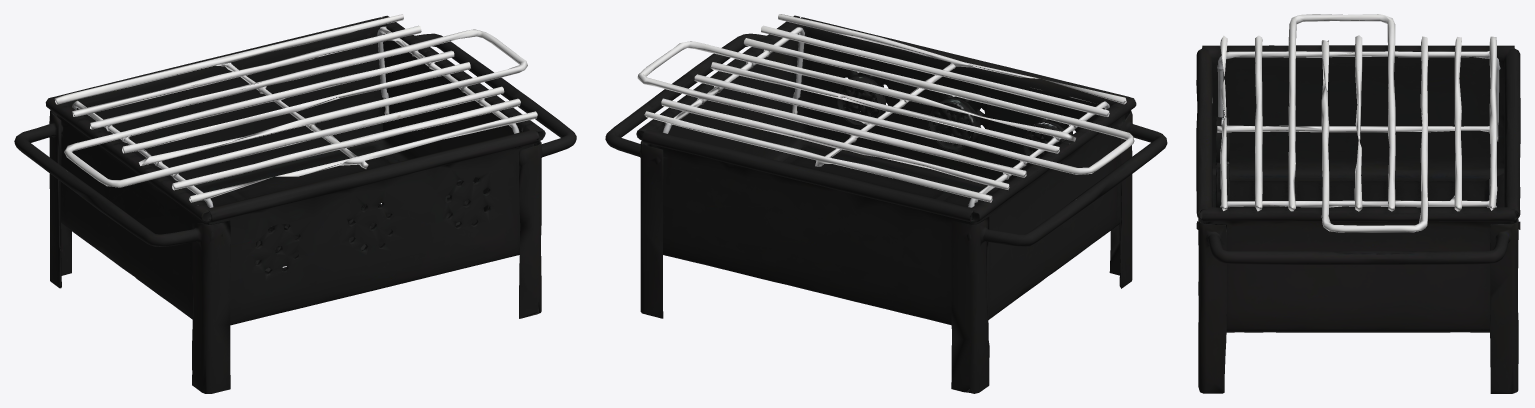
File: ParrillaModel.glb
3 renders of one model, left to right at view 1: azimuth 30°, elevation 25°; view 2: azimuth 150°, elevation 25°; view 3: azimuth 270°, elevation 25°, orthographic.
Parts seen in each view (by area): view 1: tripo_node_d9bc8058-6909-4bbf-a5b2-91284484360a; view 2: tripo_node_d9bc8058-6909-4bbf-a5b2-91284484360a; view 3: tripo_node_d9bc8058-6909-4bbf-a5b2-91284484360a.
Part boxes in pixels (left/top/right/bottom): tripo_node_d9bc8058-6909-4bbf-a5b2-91284484360a: left=14, top=14, right=576, bottom=393; tripo_node_d9bc8058-6909-4bbf-a5b2-91284484360a: left=605, top=14, right=1167, bottom=393; tripo_node_d9bc8058-6909-4bbf-a5b2-91284484360a: left=1196, top=14, right=1520, bottom=393.
Bounding box in the file's own units: 0.9808 × 0.4073 × 0.6235.
Materials: 1 (1 with a texture image).
